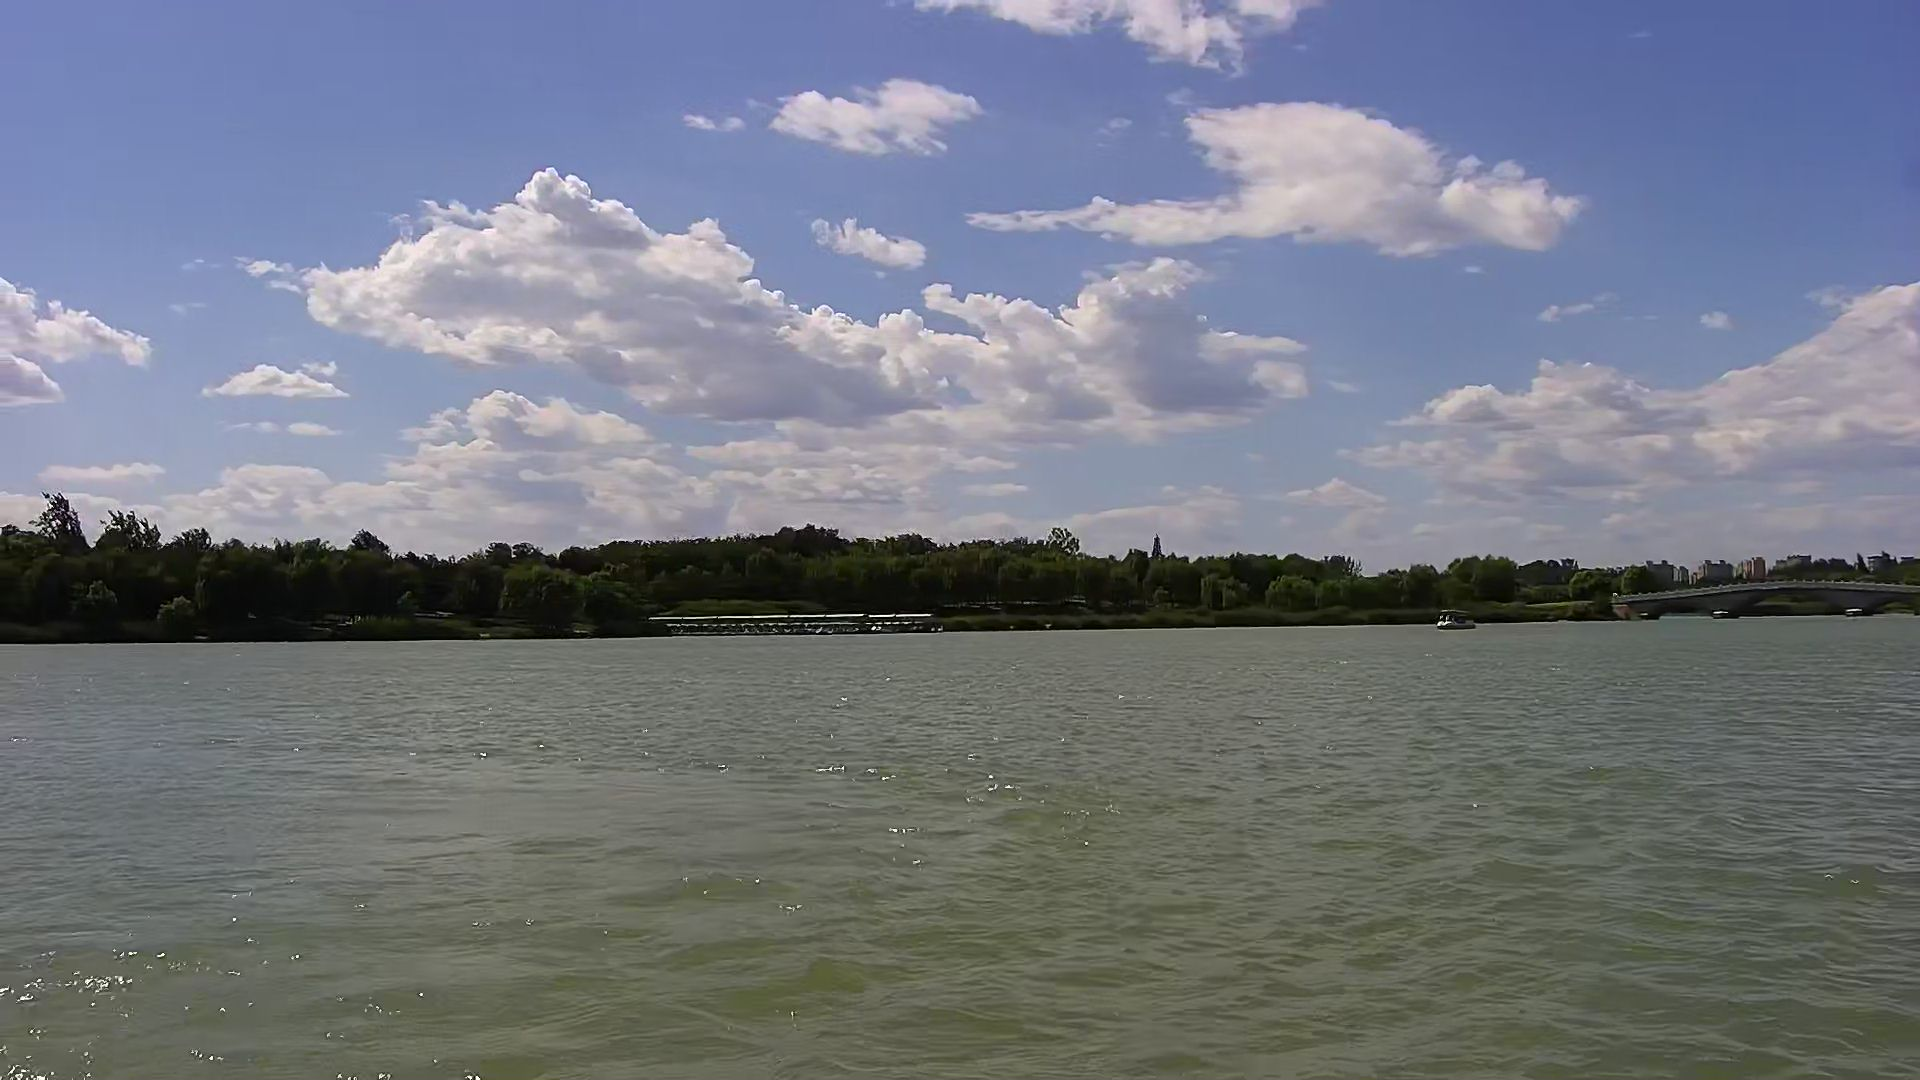boat: (1435, 608, 1477, 632)
bridge: (1615, 583, 1920, 620), (662, 616, 931, 634)
